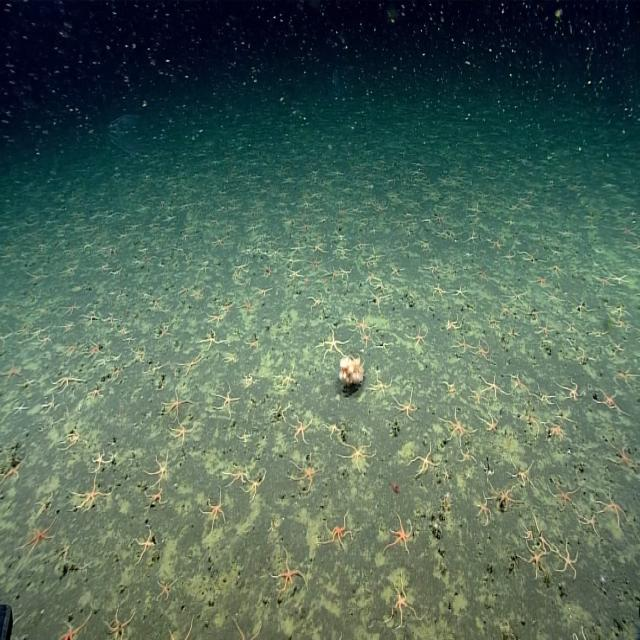brittle-stars: (385, 579, 418, 626), (72, 476, 104, 516), (272, 552, 304, 592), (22, 518, 56, 554), (200, 492, 227, 529), (58, 611, 91, 640), (388, 516, 412, 554), (323, 518, 353, 548), (409, 443, 438, 474), (105, 607, 132, 640), (555, 542, 579, 579), (130, 528, 156, 562), (600, 492, 626, 526), (341, 441, 373, 468), (489, 482, 522, 507), (444, 408, 468, 442), (0, 453, 26, 484), (522, 542, 547, 574), (511, 458, 536, 490), (549, 479, 576, 508), (321, 329, 348, 358), (294, 454, 320, 484), (610, 442, 636, 471), (596, 386, 622, 414), (149, 451, 171, 484), (212, 384, 236, 414), (162, 389, 188, 416), (245, 468, 266, 501), (481, 372, 505, 399), (394, 392, 416, 421), (368, 373, 392, 398), (276, 365, 298, 391), (291, 414, 311, 442), (558, 380, 582, 402), (172, 417, 191, 444), (156, 574, 174, 602), (53, 370, 78, 390), (405, 328, 429, 348), (476, 494, 492, 523), (1, 360, 23, 381), (480, 411, 500, 433), (92, 449, 112, 470), (63, 426, 82, 448), (453, 333, 472, 355), (504, 286, 526, 305), (548, 418, 564, 443), (146, 485, 165, 506), (224, 467, 247, 484), (60, 300, 80, 318), (202, 332, 223, 349), (475, 338, 491, 360), (59, 340, 77, 359), (205, 309, 224, 327), (592, 272, 612, 289), (459, 447, 476, 466), (12, 400, 29, 418), (36, 332, 52, 351), (85, 340, 103, 356), (388, 260, 404, 278), (154, 323, 172, 339), (609, 271, 629, 285), (532, 272, 549, 288), (537, 320, 552, 338), (431, 282, 445, 301), (352, 316, 368, 332), (452, 284, 469, 299), (87, 386, 105, 400), (464, 230, 479, 246), (285, 252, 300, 267), (374, 278, 388, 294), (288, 267, 302, 282), (291, 242, 306, 256), (360, 332, 374, 346), (268, 245, 282, 259), (310, 254, 322, 270), (241, 298, 254, 312), (190, 288, 203, 302), (116, 322, 129, 336), (337, 266, 351, 279), (264, 265, 275, 277)
